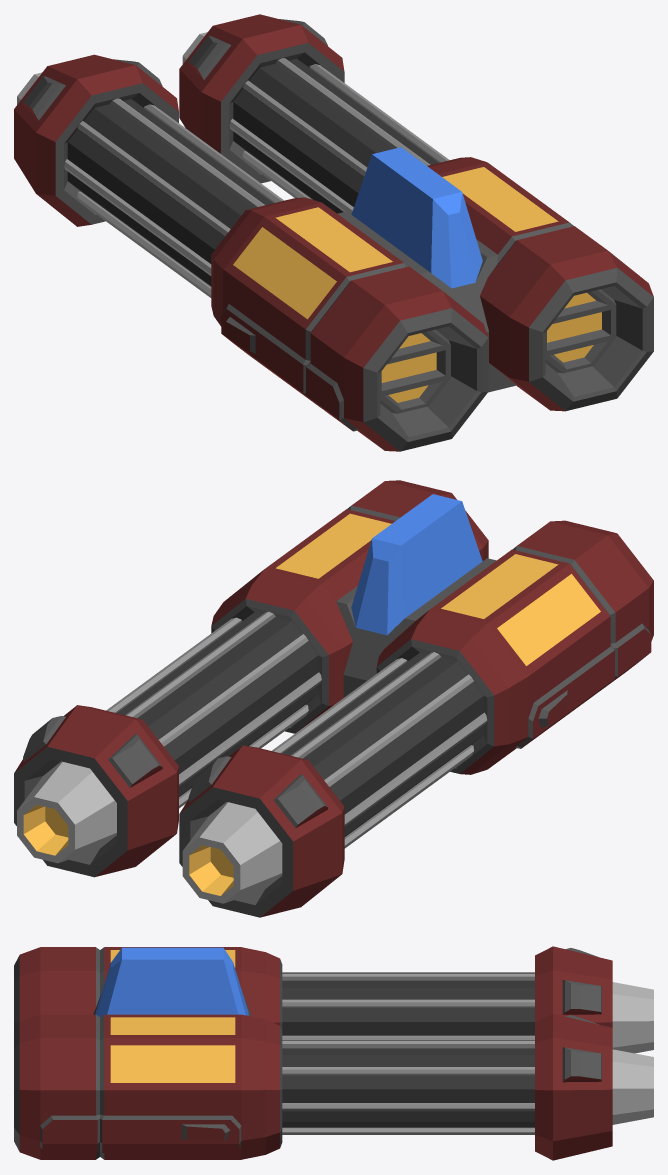
The model's file is Ship_2x4_A2.fbx.
The picture shows the model from 3 angles, top to bottom: view 1: azimuth 30°, elevation 25°; view 2: azimuth 150°, elevation 25°; view 3: azimuth 270°, elevation 25°; orthographic projection. The views are drawn at different scales.
Visible parts, largest first — view 1: Ship_2x4_A2; view 2: Ship_2x4_A2; view 3: Ship_2x4_A2.
Boxes of the visible parts, x1,y1,x2,y2 form: Ship_2x4_A2: (14,14,653,451); Ship_2x4_A2: (14,480,653,917); Ship_2x4_A2: (14,946,653,1160).
Size of the model in its own units: 172 by 98.22 by 353.
